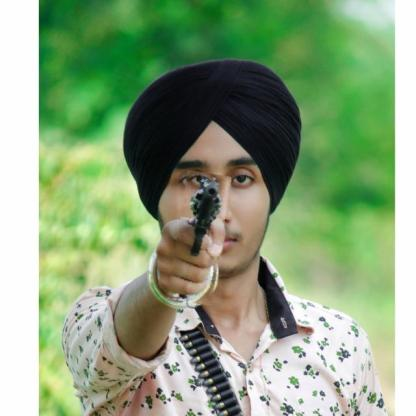handgun: (172, 171, 226, 304)
